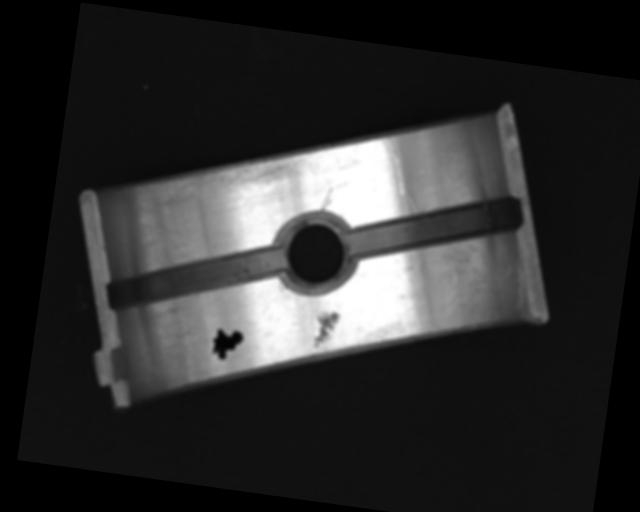blot: (209, 327, 244, 362)
bruise: (311, 308, 340, 350)
gap: (105, 224, 285, 330), (347, 178, 521, 275)
hole: (272, 209, 357, 297)
nick: (375, 135, 413, 196), (318, 185, 333, 213)
scratch: (149, 135, 304, 212)
